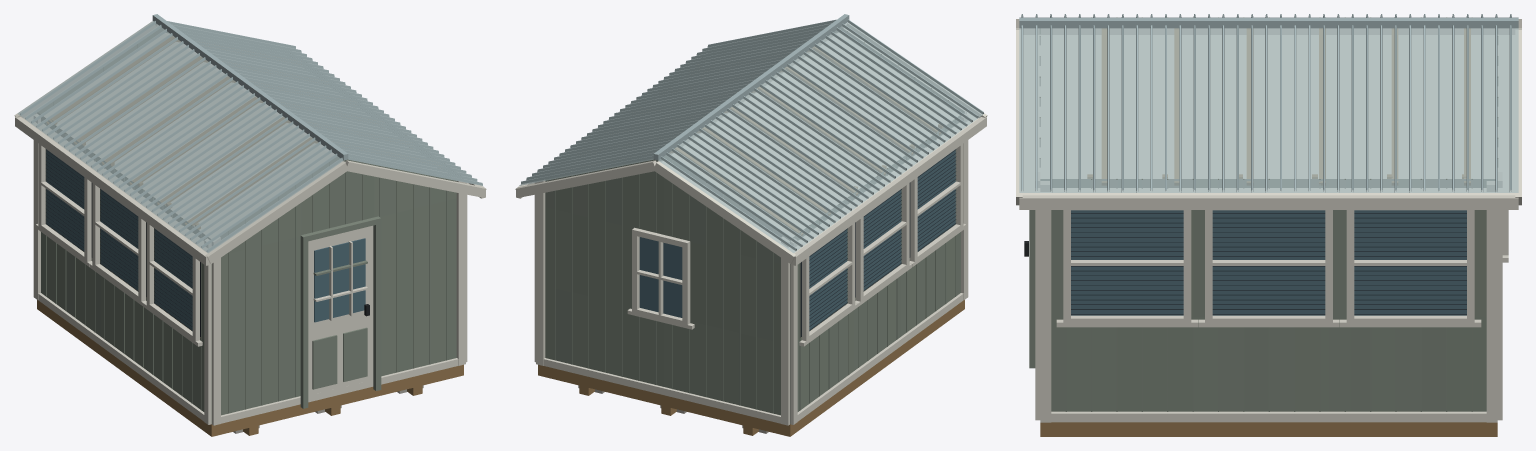
Rendered from 14-greenhouse.glb.
3 views of the same model, side by side, from view 1: azimuth 30°, elevation 25°; view 2: azimuth 150°, elevation 25°; view 3: azimuth 270°, elevation 25° (orthographic). The views are drawn at different scales.
Visible parts, largest first — view 1: Main roof, front wall, left wall, left wall screen, front wall entry, Floor platform and skids, Visible greenhouse framing, rear wall; view 2: Main roof, rear wall, left wall, left wall screen, rear wall window, Floor platform and skids, Visible greenhouse framing, front wall; view 3: Main roof, right wall, right wall screen, Floor platform and skids, Visible greenhouse framing, front wall, rear wall, front wall entry.
Boxes of the visible parts, <box> form: Main roof: <box>14,14,486,265</box>; front wall: <box>211,156,465,425</box>; left wall: <box>33,112,211,424</box>; left wall screen: <box>35,143,202,346</box>; front wall entry: <box>300,216,381,408</box>; Floor platform and skids: <box>37,277,463,436</box>; Visible greenhouse framing: <box>46,36,317,337</box>; rear wall: <box>38,28,169,276</box>; Main roof: <box>515,14,987,265</box>; rear wall: <box>536,155,790,425</box>; left wall: <box>790,112,968,424</box>; left wall screen: <box>799,143,966,346</box>; rear wall window: <box>627,227,694,329</box>; Floor platform and skids: <box>538,283,964,436</box>; Visible greenhouse framing: <box>669,46,942,318</box>; front wall: <box>834,27,966,273</box>; Main roof: <box>1016,14,1521,209</box>; right wall: <box>1040,179,1497,422</box>; right wall screen: <box>1056,210,1481,327</box>; Floor platform and skids: <box>1040,422,1497,436</box>; Visible greenhouse framing: <box>1087,28,1470,185</box>; front wall: <box>1035,29,1040,420</box>; rear wall: <box>1497,36,1502,420</box>; front wall entry: <box>1024,210,1035,368</box>.
Size of the model in its own units: 3.39 by 3.1 by 4.05.
